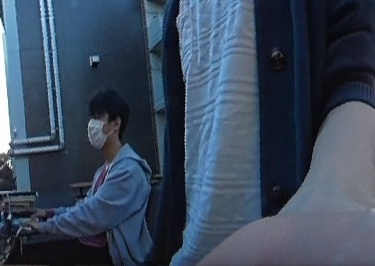person: (76, 90, 150, 266)
